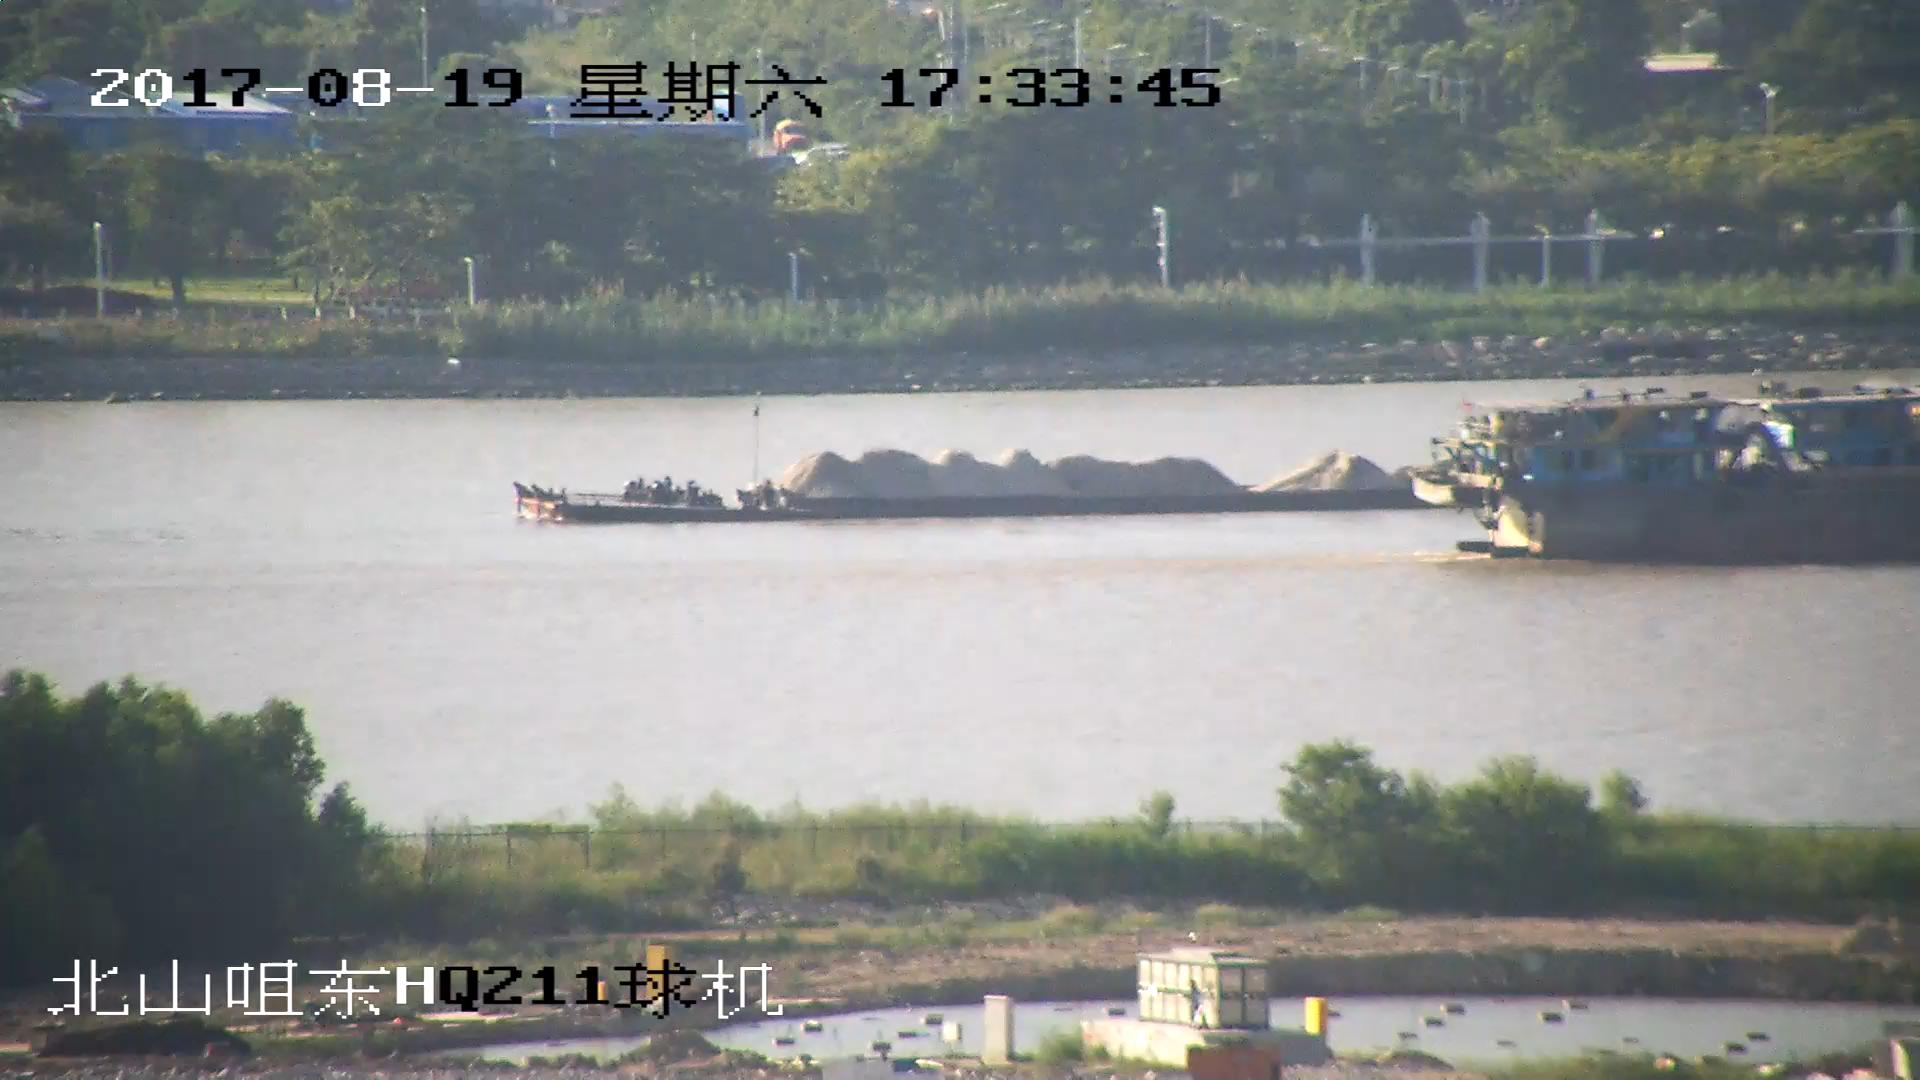bulk cargo carrier: (1417, 404, 1920, 563)
ore carrier: (508, 404, 1522, 525)
